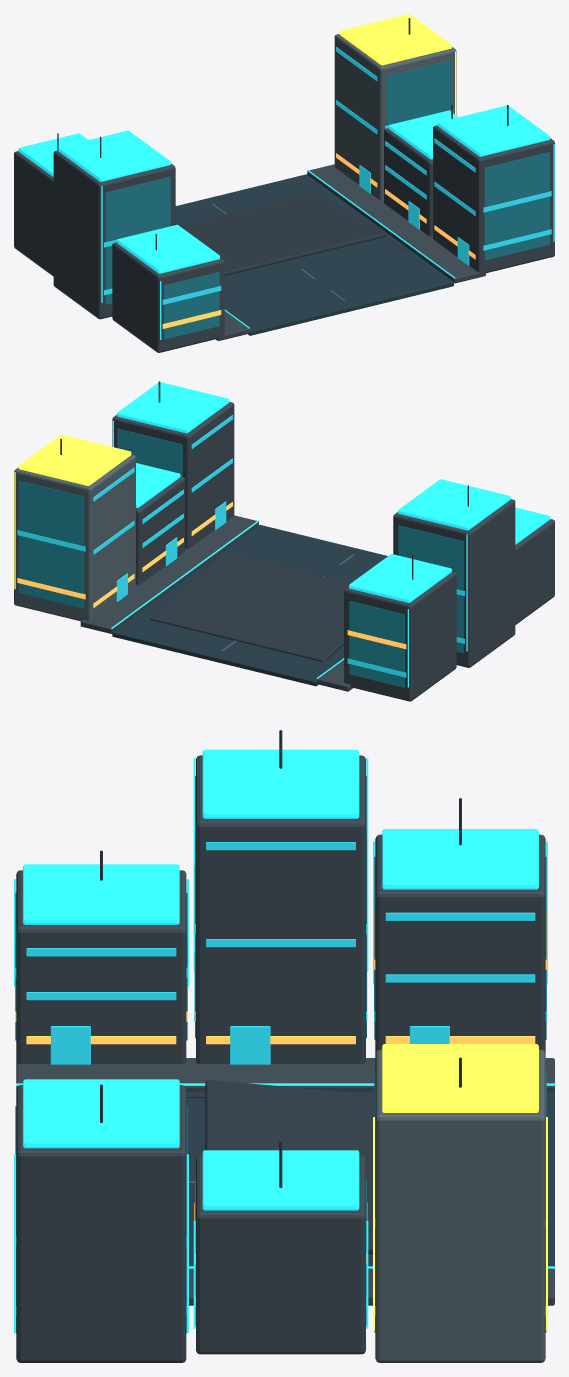
The model's file is ramp_down_lod1.glb.
The picture shows the model from 3 angles, top to bottom: view 1: azimuth 30°, elevation 25°; view 2: azimuth 150°, elevation 25°; view 3: azimuth 270°, elevation 25°; orthographic projection. The views are drawn at different scales.
Parts seen in each view (by area): view 1: ND_Batch_ND_CityConcrete, ND_Batch_ND_WetAsphalt, ND_Batch_ND_DarkGlass, ND_Batch_ND_CityCyanMuted, ND_Batch_ND_RooftopMetal, ND_Batch_ND_CityConcreteLight, ND_Batch_ND_RoadEdge, ND_Batch_ND_PackageGold, ND_Batch_ND_NeonGlass, ND_Batch_ND_WarmWindow; view 2: ND_Batch_ND_CityConcrete, ND_Batch_ND_DarkGlass, ND_Batch_ND_RooftopMetal, ND_Batch_ND_CityCyanMuted, ND_Batch_ND_WetAsphalt, ND_Batch_ND_CityConcreteLight, ND_Batch_ND_RoadEdge, ND_Batch_ND_PackageGold, ND_Batch_ND_NeonGlass, ND_Batch_ND_WarmWindow; view 3: ND_Batch_ND_CityConcrete, ND_Batch_ND_CityCyanMuted, ND_Batch_ND_CityConcreteLight, ND_Batch_ND_NeonGlass, ND_Batch_ND_RooftopMetal, ND_Batch_ND_PackageGold, ND_Batch_ND_RoadEdge, ND_Batch_ND_WarmWindow, ND_Batch_ND_WetAsphalt, ND_Batch_ND_DarkGlass.
Part boxes in pixels (left/top/right/bottom): ND_Batch_ND_CityConcrete: left=14, top=125, right=554, bottom=352; ND_Batch_ND_WetAsphalt: left=175, top=174, right=453, bottom=335; ND_Batch_ND_DarkGlass: left=105, top=60, right=549, bottom=339; ND_Batch_ND_CityCyanMuted: left=18, top=105, right=554, bottom=339; ND_Batch_ND_RooftopMetal: left=57, top=18, right=508, bottom=275; ND_Batch_ND_CityConcreteLight: left=211, top=34, right=456, bottom=300; ND_Batch_ND_RoadEdge: left=216, top=164, right=485, bottom=340; ND_Batch_ND_PackageGold: left=339, top=14, right=456, bottom=115; ND_Batch_ND_NeonGlass: left=104, top=47, right=551, bottom=304; ND_Batch_ND_WarmWindow: left=162, top=153, right=475, bottom=328; ND_Batch_ND_CityConcrete: left=112, top=402, right=554, bottom=701; ND_Batch_ND_DarkGlass: left=19, top=428, right=463, bottom=687; ND_Batch_ND_RooftopMetal: left=60, top=381, right=468, bottom=661; ND_Batch_ND_CityCyanMuted: left=111, top=382, right=550, bottom=687; ND_Batch_ND_WetAsphalt: left=112, top=525, right=387, bottom=686; ND_Batch_ND_CityConcreteLight: left=14, top=454, right=354, bottom=651; ND_Batch_ND_RoadEdge: left=80, top=515, right=352, bottom=691; ND_Batch_ND_PackageGold: left=14, top=434, right=131, bottom=589; ND_Batch_ND_NeonGlass: left=17, top=415, right=464, bottom=677; ND_Batch_ND_WarmWindow: left=17, top=502, right=406, bottom=649; ND_Batch_ND_CityConcrete: left=16, top=755, right=545, bottom=1362; ND_Batch_ND_CityCyanMuted: left=14, top=749, right=554, bottom=1332; ND_Batch_ND_CityConcreteLight: left=189, top=1049, right=545, bottom=1362; ND_Batch_ND_NeonGlass: left=15, top=842, right=546, bottom=1315; ND_Batch_ND_RooftopMetal: left=100, top=730, right=461, bottom=1254; ND_Batch_ND_PackageGold: left=373, top=1044, right=547, bottom=1330; ND_Batch_ND_RoadEdge: left=16, top=1058, right=554, bottom=1305; ND_Batch_ND_WarmWindow: left=15, top=909, right=546, bottom=1315; ND_Batch_ND_WetAsphalt: left=186, top=1092, right=554, bottom=1269; ND_Batch_ND_DarkGlass: left=15, top=776, right=546, bottom=1333.
Size of the model in its own units: 31.9 by 12.33 by 20.09.
